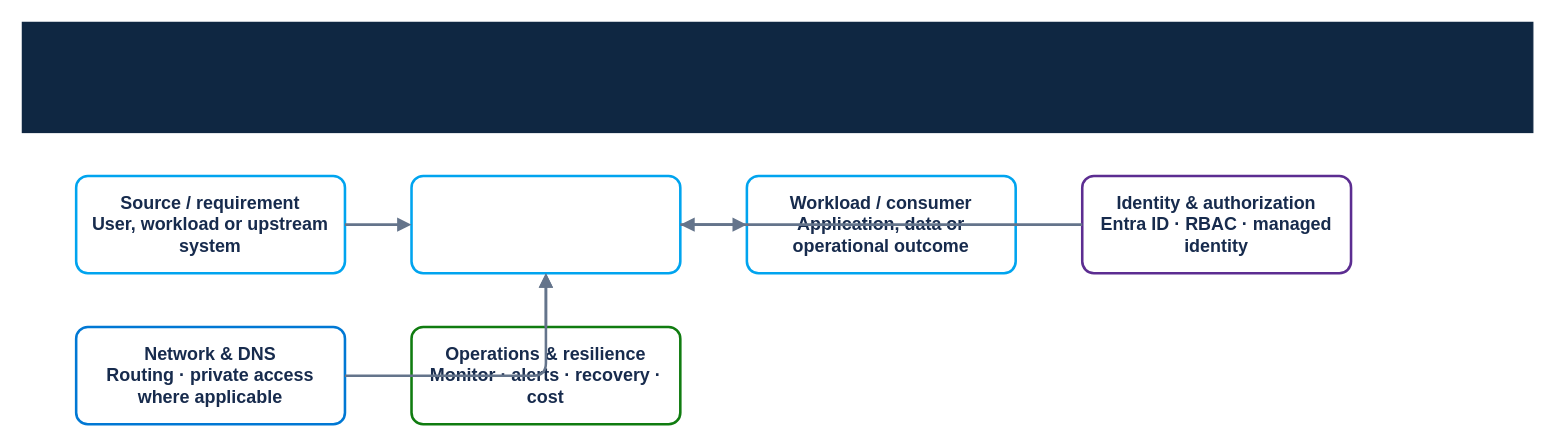
Image size: 1555x448. Some labels were removed from this diagram. The shapes that lost their labels are listed below. From the top down, each one's box as (x1, y1, x2, y2) in pixels, then its label:
(21, 21, 1533, 132): DDoS Protection
(410, 174, 681, 274): DDoS Protection Azure service / architecture control
